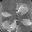people: (16, 4, 28, 16), (21, 18, 32, 26), (1, 20, 10, 29), (10, 20, 18, 30), (1, 11, 12, 18)
